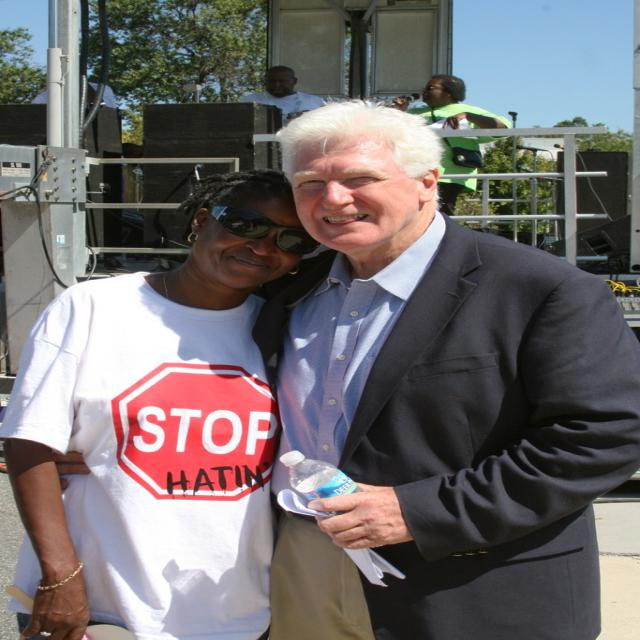Stop-sign: (108, 361, 284, 503)
